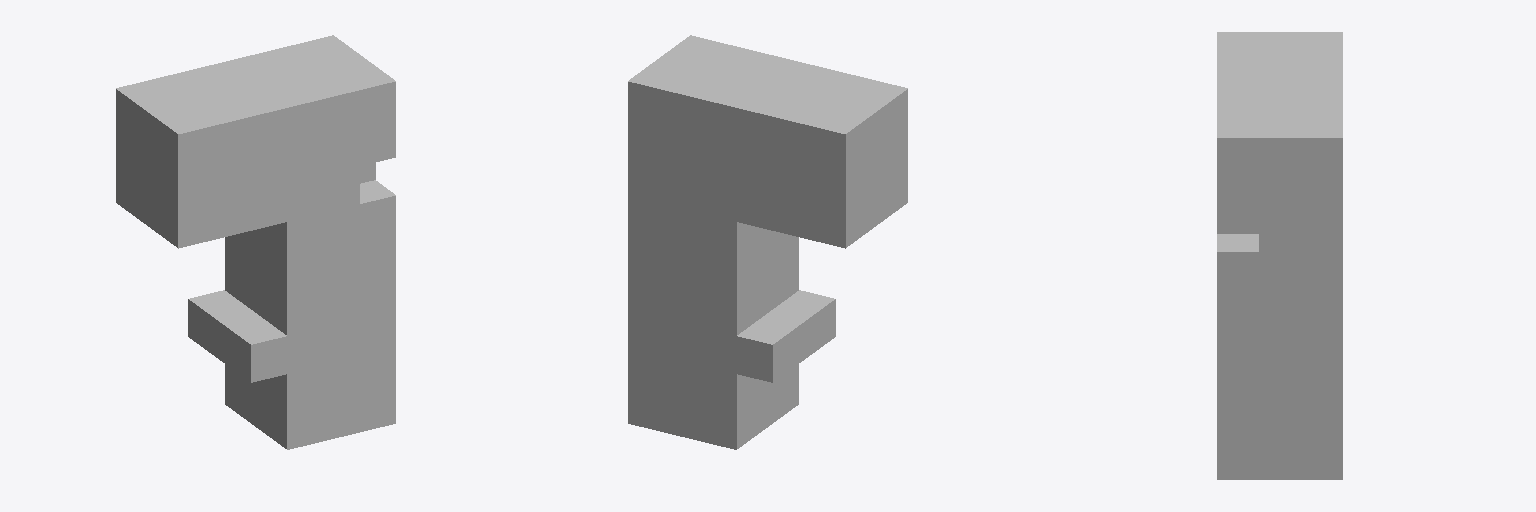
Rendered from leftArmJSON.obj.
The picture shows the model from 3 angles: view 1: azimuth 30°, elevation 25°; view 2: azimuth 150°, elevation 25°; view 3: azimuth 270°, elevation 25°; orthographic projection.
Parts seen in each view (by area): view 1: object 1; view 2: object 1; view 3: object 1.
Boxes of the visible parts, x1,y1,x2,y2 form: object 1: [116, 35, 395, 449]; object 1: [628, 35, 907, 449]; object 1: [1217, 32, 1342, 479].
Size of the model in its own units: 0.6 by 0.9 by 0.3.